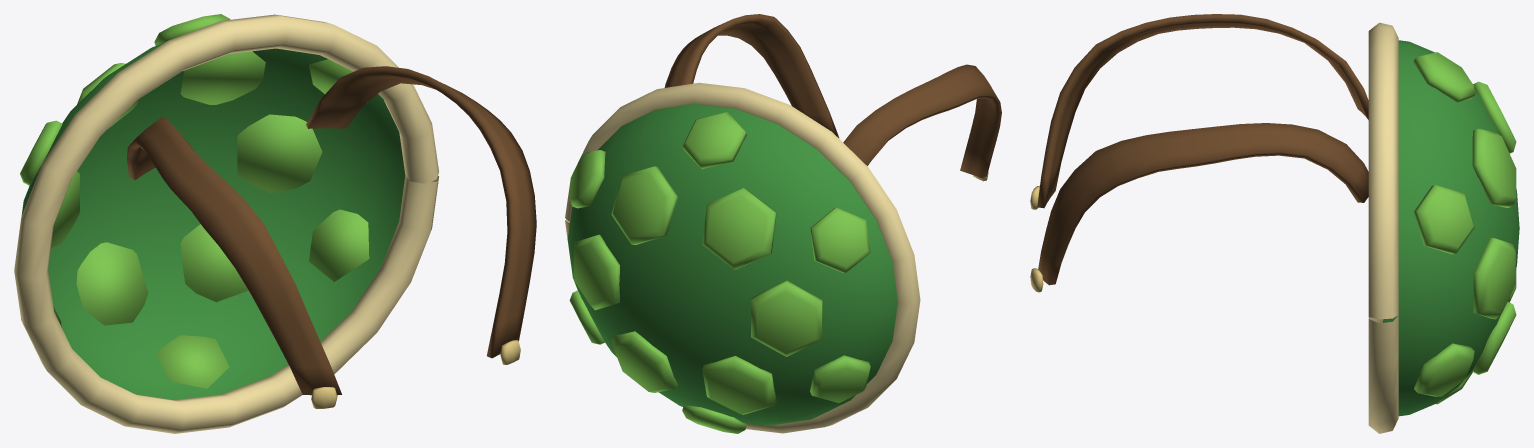
File: back_shell.glb
3 renders of one model, left to right at view 1: azimuth 30°, elevation 25°; view 2: azimuth 150°, elevation 25°; view 3: azimuth 270°, elevation 25°, orthographic. The views are drawn at different scales.
Visible parts, largest first — view 1: BackShell; view 2: BackShell; view 3: BackShell.
Boxes of the visible parts, bbox=[...] form: BackShell: bbox=[14, 14, 536, 433]; BackShell: bbox=[565, 14, 1001, 433]; BackShell: bbox=[1030, 14, 1519, 433].
Bounding box in the file's own units: 0.6127 × 0.5629 × 0.6796.
